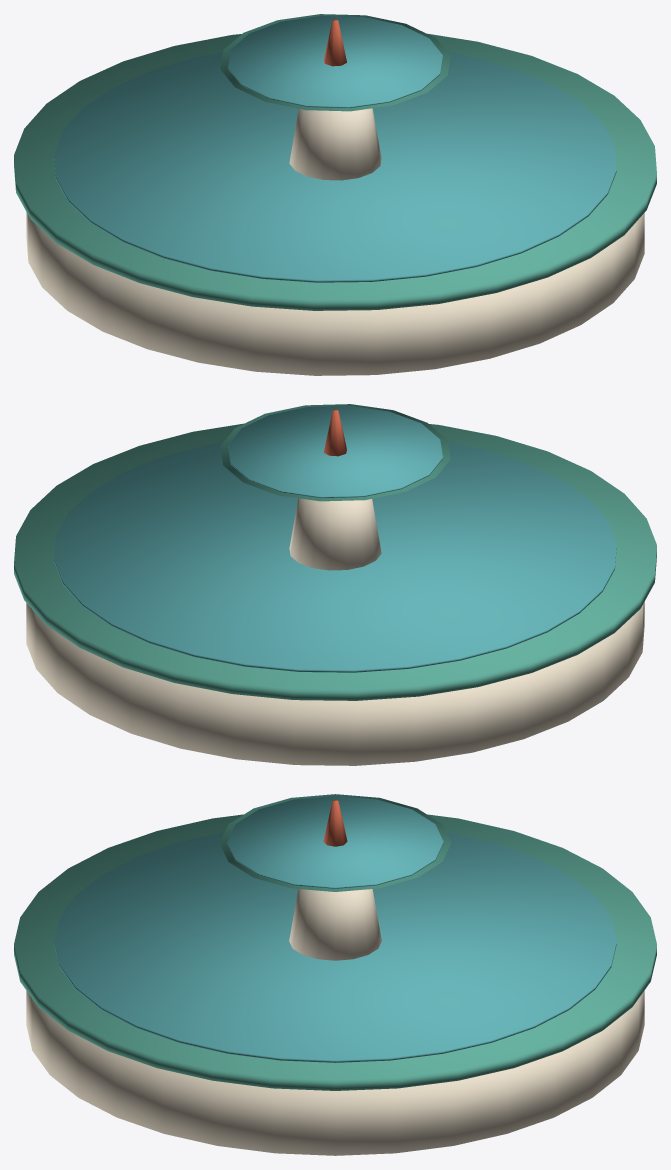
File: oc_fountain_01.glb
3 renders of one model, top to bottom at view 1: azimuth 30°, elevation 25°; view 2: azimuth 150°, elevation 25°; view 3: azimuth 270°, elevation 25°, orthographic.
Visible parts, largest first — view 1: LOD1_OC_Water, LOD1_OC_Stucco_Ivory, LOD1_OC_Deco_Mint, LOD1_OC_Coral; view 2: LOD1_OC_Water, LOD1_OC_Stucco_Ivory, LOD1_OC_Deco_Mint, LOD1_OC_Coral; view 3: LOD1_OC_Water, LOD1_OC_Stucco_Ivory, LOD1_OC_Deco_Mint, LOD1_OC_Coral.
Part boxes in pixels (box(x1,y1,x2,y2)): LOD1_OC_Water: box(54, 16, 616, 282); LOD1_OC_Stucco_Ivory: box(26, 108, 644, 375); LOD1_OC_Deco_Mint: box(14, 14, 656, 310); LOD1_OC_Coral: box(324, 19, 346, 66); LOD1_OC_Water: box(54, 406, 616, 672); LOD1_OC_Stucco_Ivory: box(26, 498, 644, 765); LOD1_OC_Deco_Mint: box(14, 404, 656, 700); LOD1_OC_Coral: box(324, 409, 346, 456); LOD1_OC_Water: box(54, 796, 616, 1062); LOD1_OC_Stucco_Ivory: box(26, 889, 644, 1155); LOD1_OC_Deco_Mint: box(14, 794, 656, 1090); LOD1_OC_Coral: box(323, 800, 347, 846).
Bounding box in the file's own units: 4.16 × 1.6 × 4.16.
